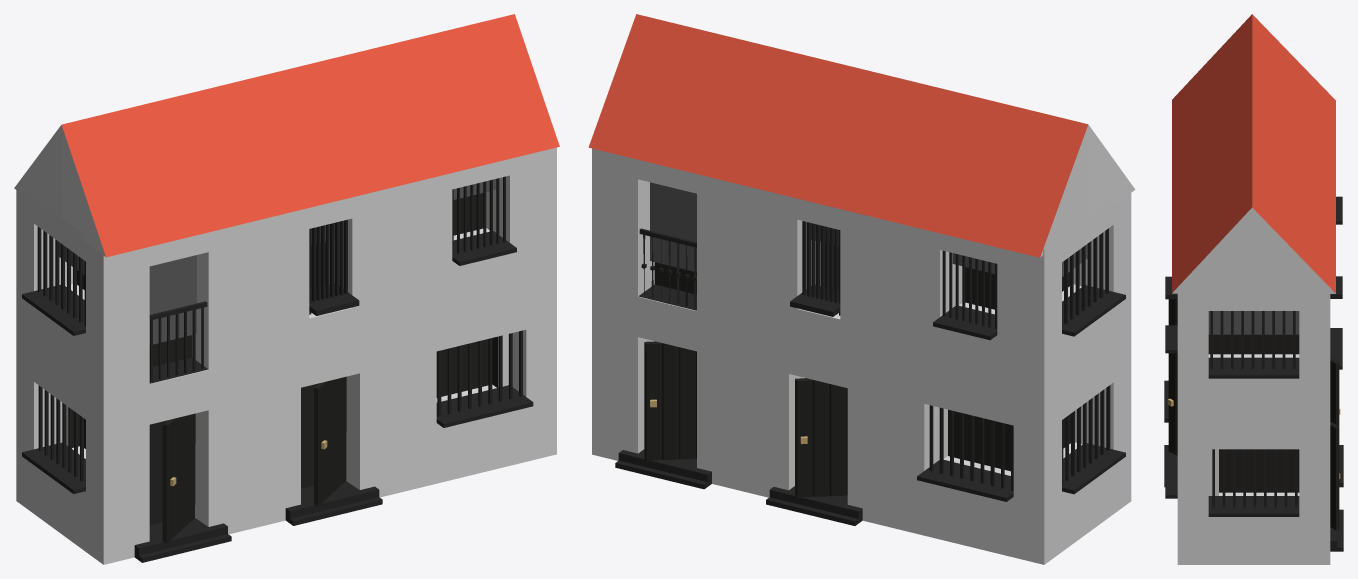
Rendered from casa procedural_relleno_6.fbx.
3 views of the same model, side by side, from view 1: azimuth 30°, elevation 25°; view 2: azimuth 150°, elevation 25°; view 3: azimuth 270°, elevation 25° (orthographic). The views are drawn at different scales.
Visible parts, largest first — view 1: Procedural_Building_straight; view 2: Procedural_Building_straight; view 3: Procedural_Building_straight.
Boxes of the visible parts, bbox=[...] form: Procedural_Building_straight: bbox=[14, 14, 559, 564]; Procedural_Building_straight: bbox=[588, 14, 1135, 564]; Procedural_Building_straight: bbox=[1164, 14, 1343, 564].
Bounding box in the file's own units: 316 × 259 × 118.
